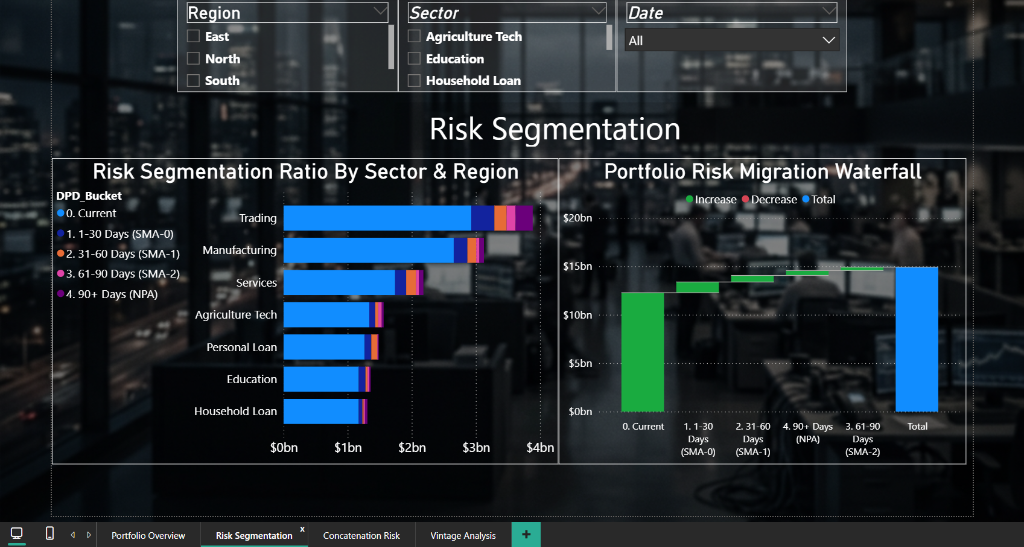

This screenshot's page, from the dashboard's own definition file:
{"tool":"powerbi","page":{"name":"Risk Segmentation","canvas":[1280,720],"ordinal":1},"visuals":[{"type":"waterfallChart","title":"Portfolio Risk Migration Waterfall","fields":{"Category":["MSME_Loan_Portfolio.DPD_Bucket"],"Y":["MSME_Loan_Portfolio.Total_Outstanding"]},"box":[704.3,221.9,566.2,425.8],"z":1},{"type":"barChart","title":"Risk Segmentation Ratio By Sector & Region","fields":{"Category":["MSME_Loan_Portfolio.Sector","MSME_Loan_Portfolio.Region"],"Y":["MSME_Loan_Portfolio.Total_Outstanding"],"Series":["MSME_Loan_Portfolio.DPD_Bucket"]},"box":[0,221.9,704.3,425.8],"z":2}]}

Visuals, with their boxes on the page's 1280x720 design canvas (x1, y1, x2, y2). These are canvas units, not pixel positions in the 1024x547 screenshot, which may show the page scaled, cropped or inside an application window:
"Portfolio Risk Migration Waterfall" waterfallChart: 704/222/1270/648
"Risk Segmentation Ratio By Sector & Region" barChart: 0/222/704/648
